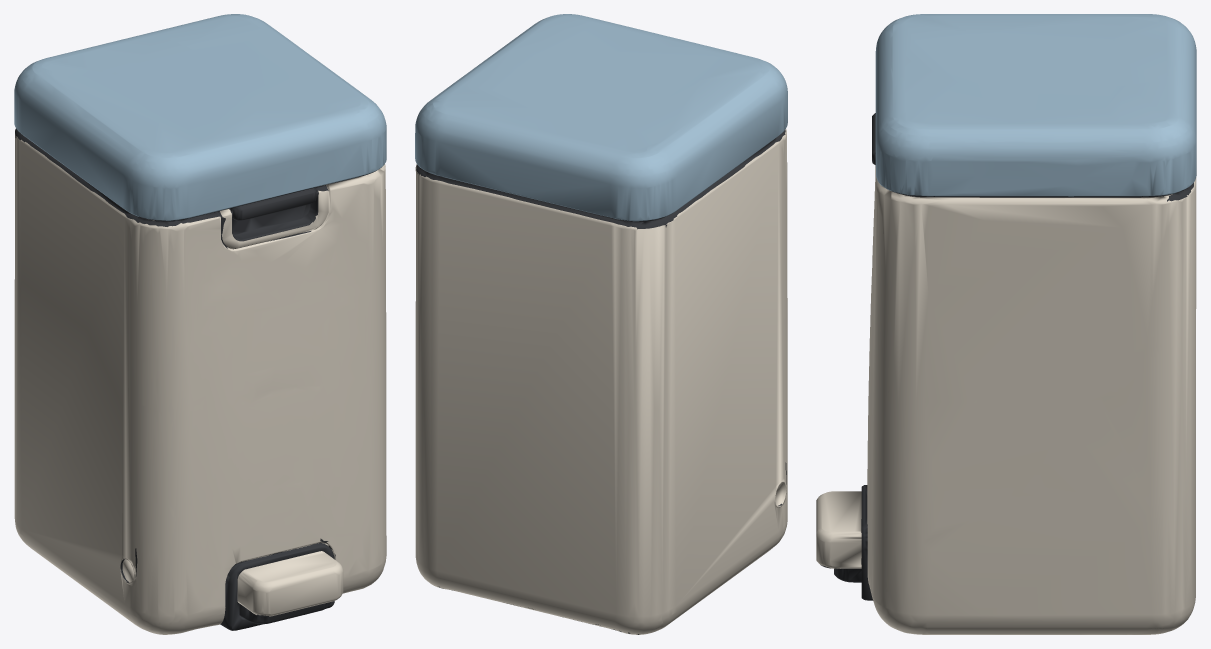
File: trash-can.glb
The picture shows the model from 3 angles, left to right: view 1: azimuth 30°, elevation 25°; view 2: azimuth 150°, elevation 25°; view 3: azimuth 270°, elevation 25°; orthographic projection. The views are drawn at different scales.
Parts seen in each view (by area): view 1: 桶身, 桶盖, 踏板; view 2: 桶身, 桶盖; view 3: 桶身, 桶盖, 踏板.
Boxes of the visible parts, left/top/right/bottom form: 桶身: left=14, top=128, right=386, bottom=634; 桶盖: left=14, top=14, right=386, bottom=220; 踏板: left=237, top=551, right=343, bottom=624; 桶身: left=415, top=129, right=787, bottom=634; 桶盖: left=415, top=14, right=787, bottom=222; 桶身: left=861, top=113, right=1196, bottom=634; 桶盖: left=875, top=14, right=1196, bottom=196; 踏板: left=816, top=491, right=861, bottom=582.
Bounding box in the file's own units: 0.5344 × 0.9633 × 0.6529.
